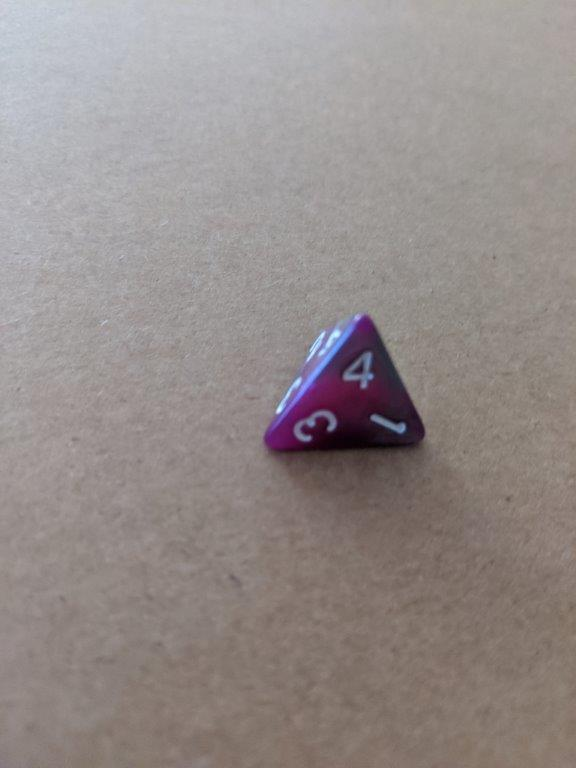d4-4: (262, 308, 427, 453)
